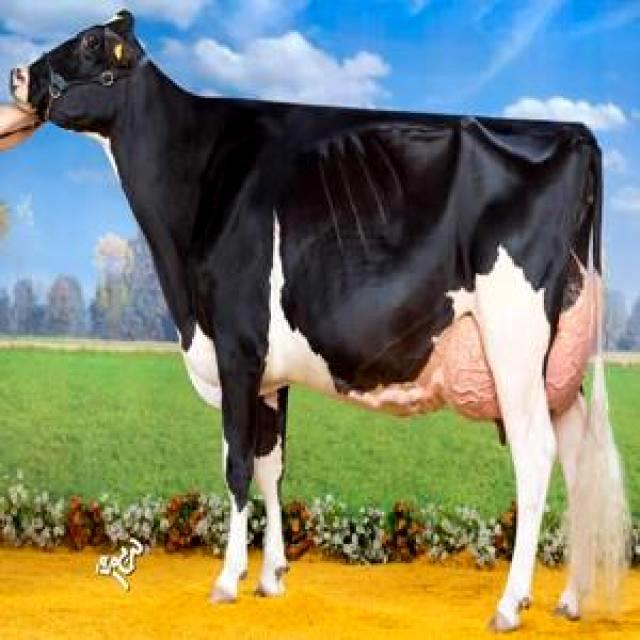COW: (11, 11, 628, 629)
